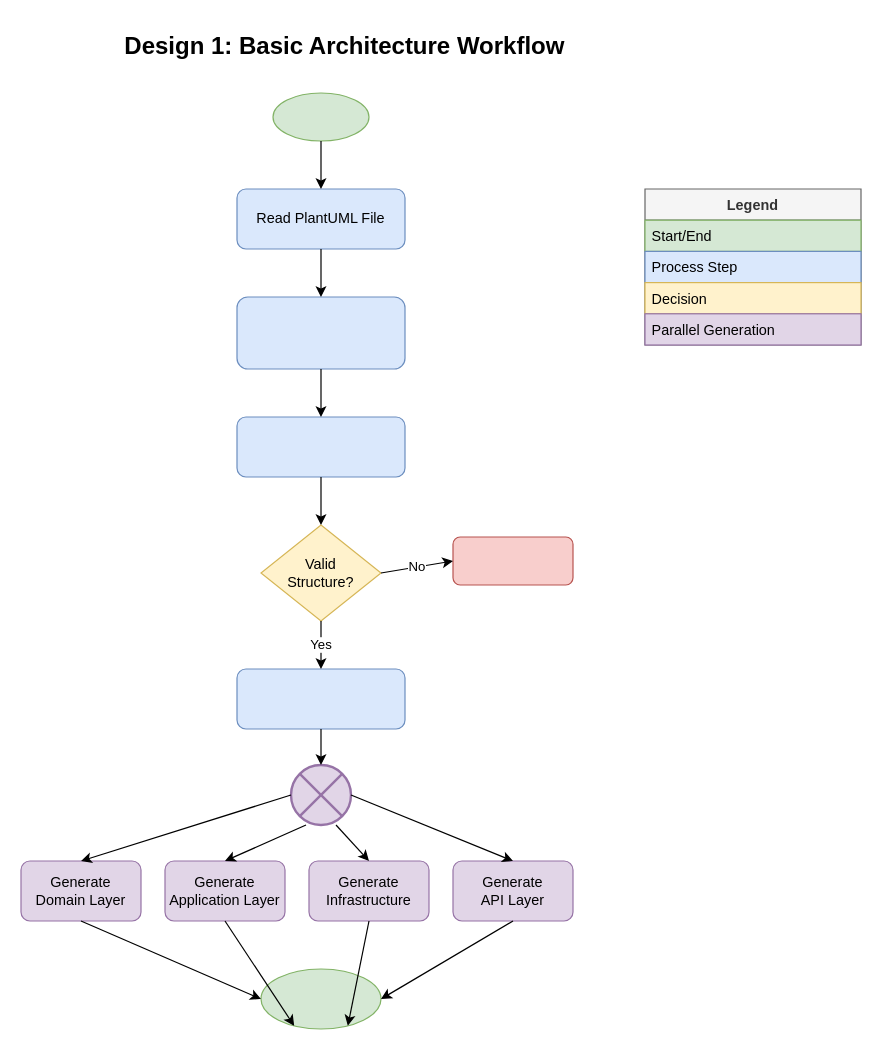
This 882x1056 diagram has some shape labels left out. The centre of each missing label's shape, as x and y in pixels:
"Build MicroserviceModel for each Package" belongs at [320,698].
"Extract Classes with Stereotypes" belongs at [320,446].
"Parse Package Declarations (Microservice Boundaries)" belongs at [320,332].
"Report Error" belongs at [512,560].
"Solution Generated" belongs at [320,998].
"Start" belongs at [320,116].
